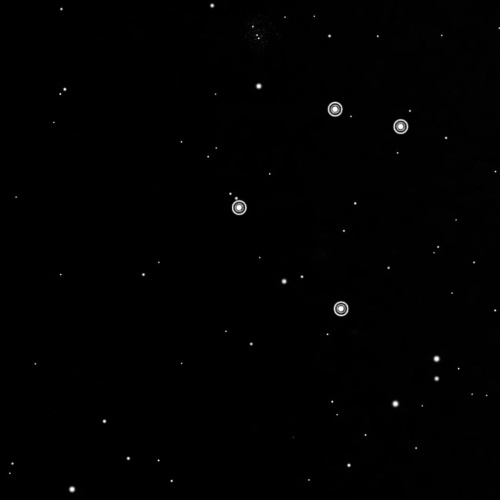coma_berenices: (221, 95, 420, 327)
